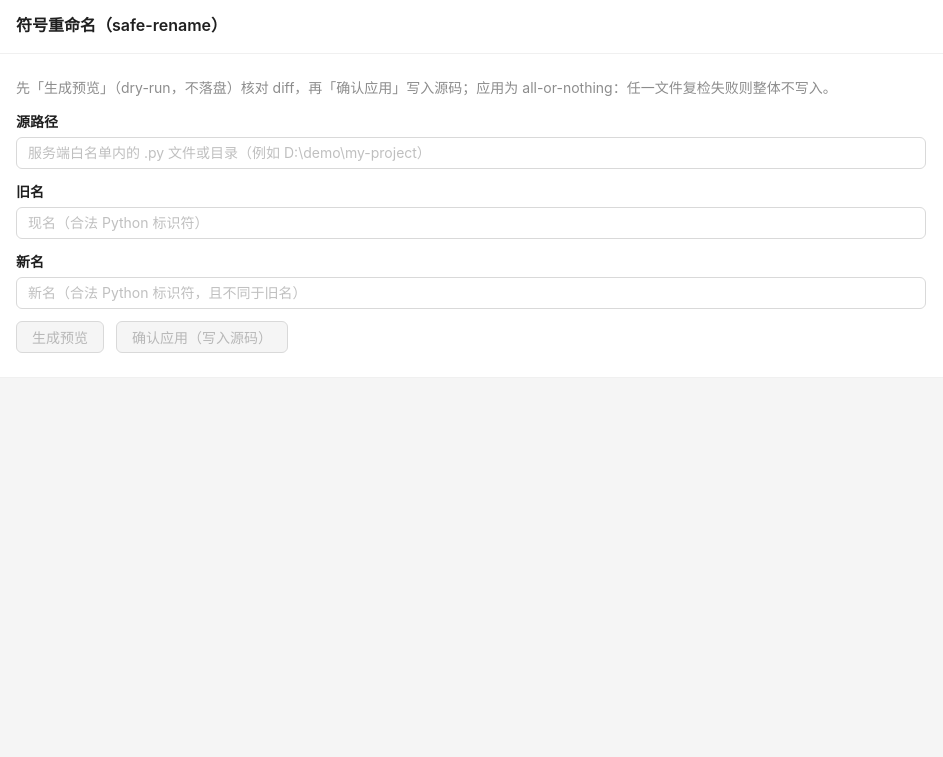
it: RenameTool › 应用 409（复检失败）：展示 detail 并额外提示 all-or-nothing 未写入任何文件
The image size is (943, 757).
Type "D:\\demo\\my-project" into the field with placeholder "服务端白名单内的 .py 文件或目录（例如 D:\\demo\\my-project）".
click(463, 153); type("D:\\demo\\my-project")  # box [28,142,898,164]
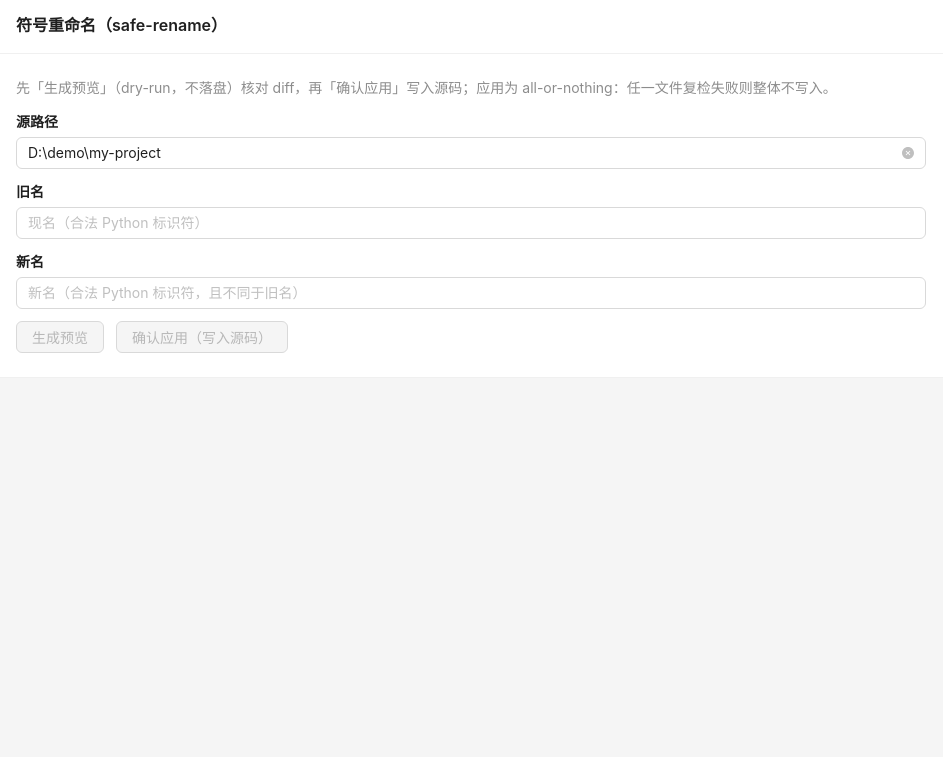
Type "old_name" into the field with placeholder "现名（合法 Python 标识符）".
click(463, 223); type("old_name")  # box [28,212,898,234]
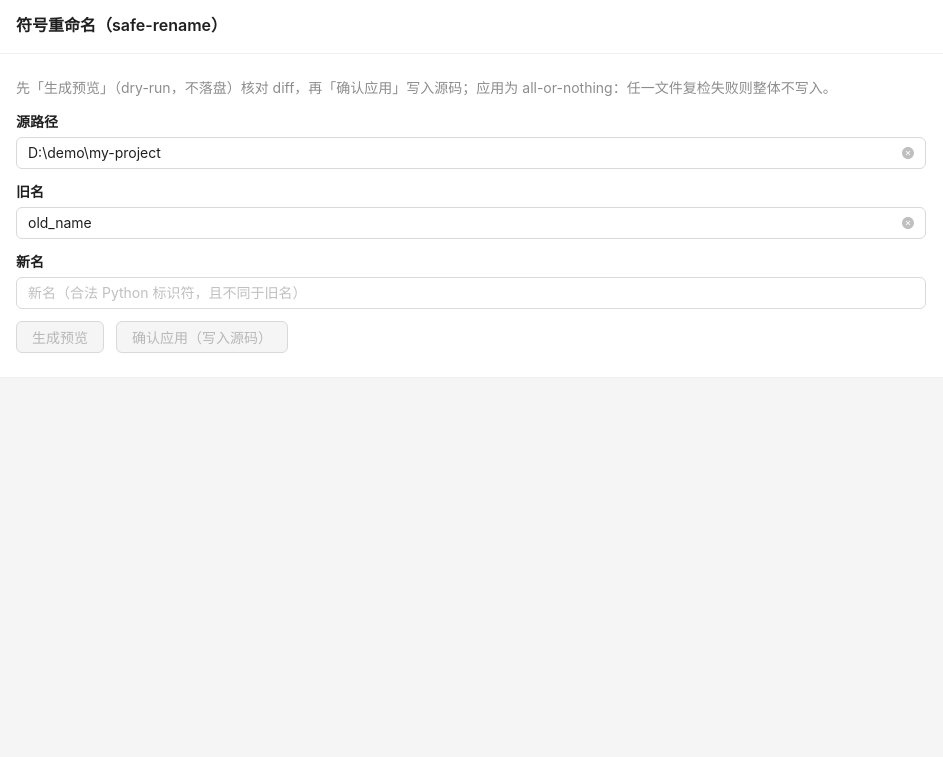
Type "new_name" into the field with placeholder "新名（合法 Python 标识符，且不同于旧名）".
click(463, 293); type("new_name")  # box [28,282,898,304]
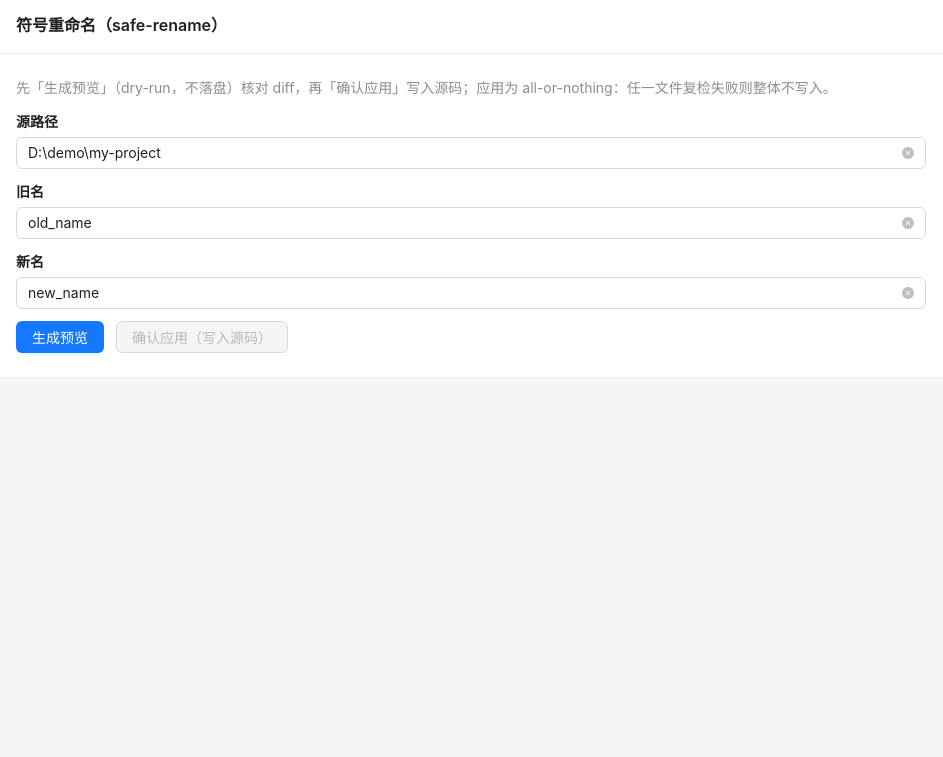
Click the button "生成预览".
click(60, 337)  # box [16,321,104,353]
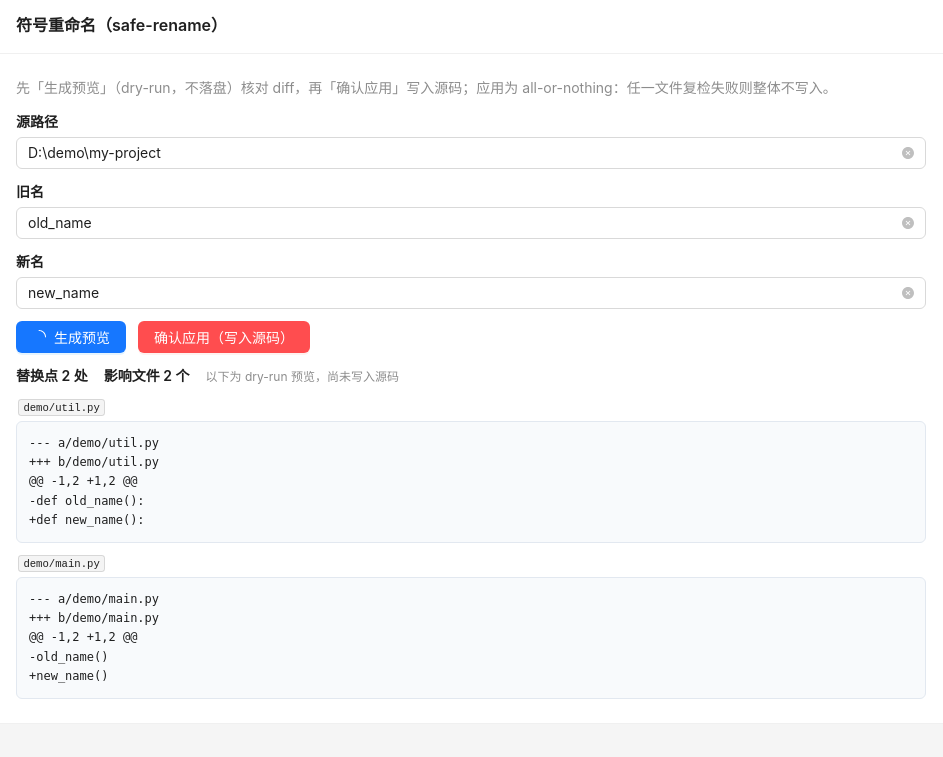
Result: the button "确认应用（写入源码）" is enabled
Click the button "确认应用（写入源码）".
click(224, 337)  # box [138,321,310,353]
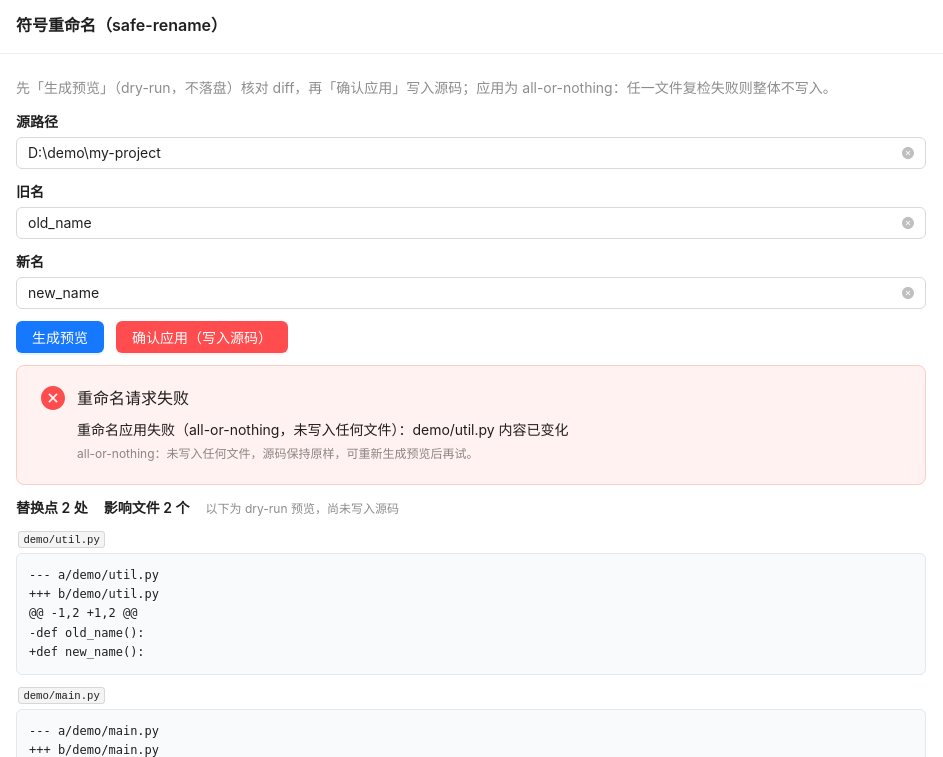
Result: the text "重命名应用失败（all-or-nothing，未写入任何文件）：demo/util.py 内容已变化" is shown at [77,421,569,438]
Result: the text "all-or-nothing：未写入任何文件，源码保持原样，可重新生成预览后再试。" is shown at [77,446,478,461]
